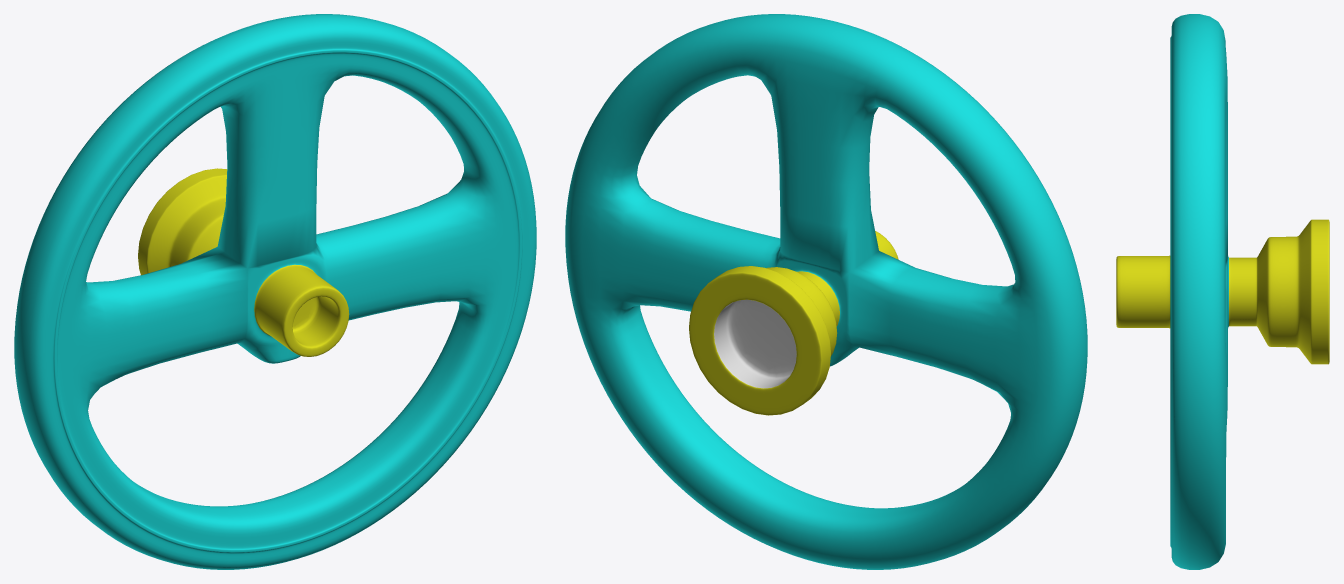
The model's file is valve.fbx.
The picture shows the model from 3 angles, left to right: view 1: azimuth 30°, elevation 25°; view 2: azimuth 150°, elevation 25°; view 3: azimuth 270°, elevation 25°; orthographic projection. The views are drawn at different scales.
Parts seen in each view (by area): view 1: Industrial_Box; view 2: Industrial_Box; view 3: Industrial_Box.
Part boxes in pixels (bbox=[...]): Industrial_Box: bbox=[14, 14, 536, 569]; Industrial_Box: bbox=[565, 14, 1087, 569]; Industrial_Box: bbox=[1116, 14, 1329, 569].
Bounding box in the file's own units: 0.0988 × 0.0988 × 0.0379.
